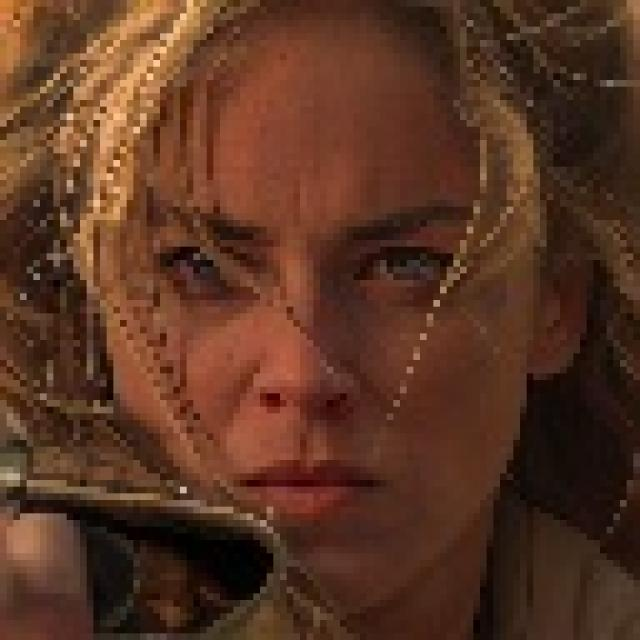angry: (66, 27, 527, 611)
